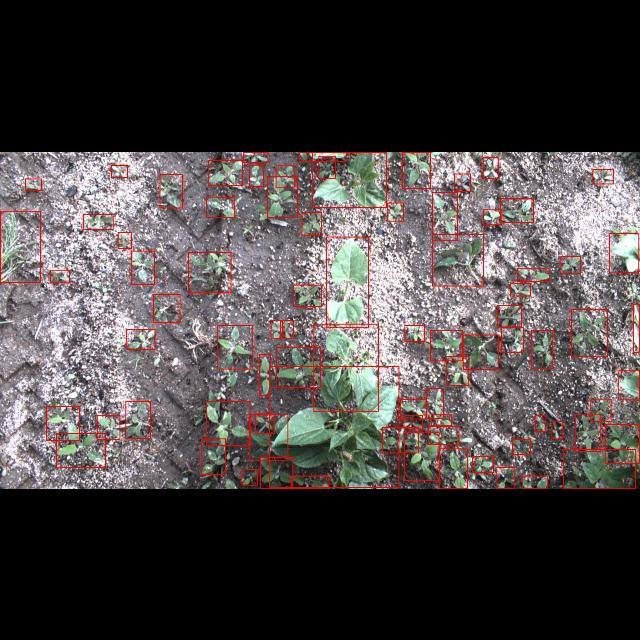crop: (270, 367, 398, 488), (314, 324, 378, 411), (312, 152, 386, 206), (326, 236, 368, 328), (609, 232, 639, 272), (618, 370, 640, 400), (299, 152, 346, 160), (633, 304, 639, 352)
weed: (0, 210, 40, 282), (563, 448, 635, 488), (432, 233, 483, 285), (206, 400, 250, 446), (248, 414, 288, 460), (276, 347, 320, 387), (404, 432, 440, 480), (56, 433, 106, 467), (571, 309, 607, 356), (189, 252, 231, 292), (218, 325, 252, 369), (605, 423, 639, 462), (463, 334, 499, 370), (432, 191, 458, 239), (267, 176, 297, 217), (46, 406, 80, 440), (439, 448, 467, 488), (260, 457, 294, 488), (403, 151, 431, 187), (430, 330, 462, 360), (382, 427, 418, 453), (126, 400, 150, 438), (576, 414, 600, 452), (201, 438, 225, 474), (208, 160, 242, 184), (501, 198, 534, 222), (532, 330, 552, 368), (132, 250, 154, 284), (160, 173, 182, 207), (154, 294, 180, 322), (447, 355, 468, 385), (294, 284, 322, 306), (206, 196, 234, 217), (96, 415, 120, 439), (501, 326, 523, 352), (127, 329, 155, 349), (428, 426, 459, 444), (426, 388, 444, 418), (401, 399, 427, 419), (258, 354, 270, 396), (498, 306, 522, 326), (291, 476, 329, 488), (302, 212, 322, 234), (590, 399, 610, 421), (83, 214, 113, 228), (276, 164, 294, 186), (318, 156, 336, 178), (517, 268, 549, 280), (561, 255, 581, 273), (256, 413, 274, 433), (496, 468, 514, 488), (592, 168, 614, 184), (482, 156, 498, 178), (472, 456, 493, 472), (404, 325, 424, 341), (522, 476, 548, 488), (249, 164, 263, 186), (483, 208, 502, 224), (387, 202, 403, 220), (454, 173, 470, 191), (510, 282, 530, 296), (403, 415, 422, 429), (280, 320, 294, 338), (512, 440, 530, 454), (50, 270, 70, 282), (244, 151, 268, 161), (432, 414, 452, 426), (118, 232, 132, 248), (242, 470, 258, 484), (271, 320, 283, 338), (26, 178, 42, 190), (111, 164, 127, 176), (535, 415, 545, 431), (552, 422, 562, 438)
